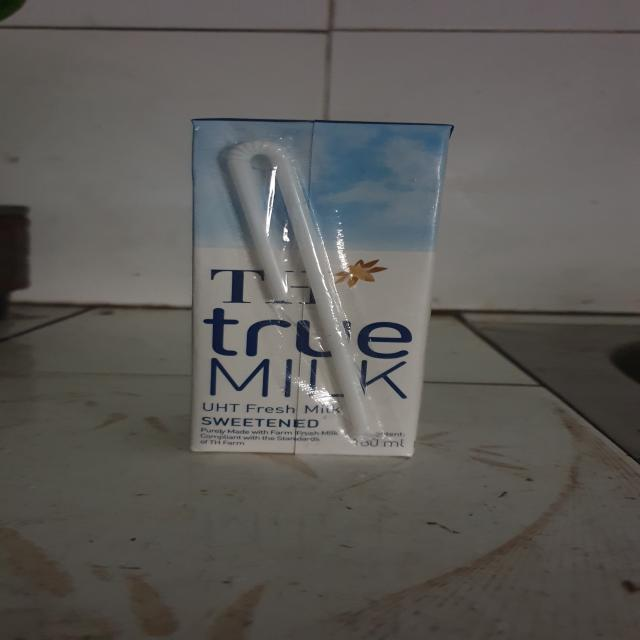TH: (187, 118, 441, 455)
